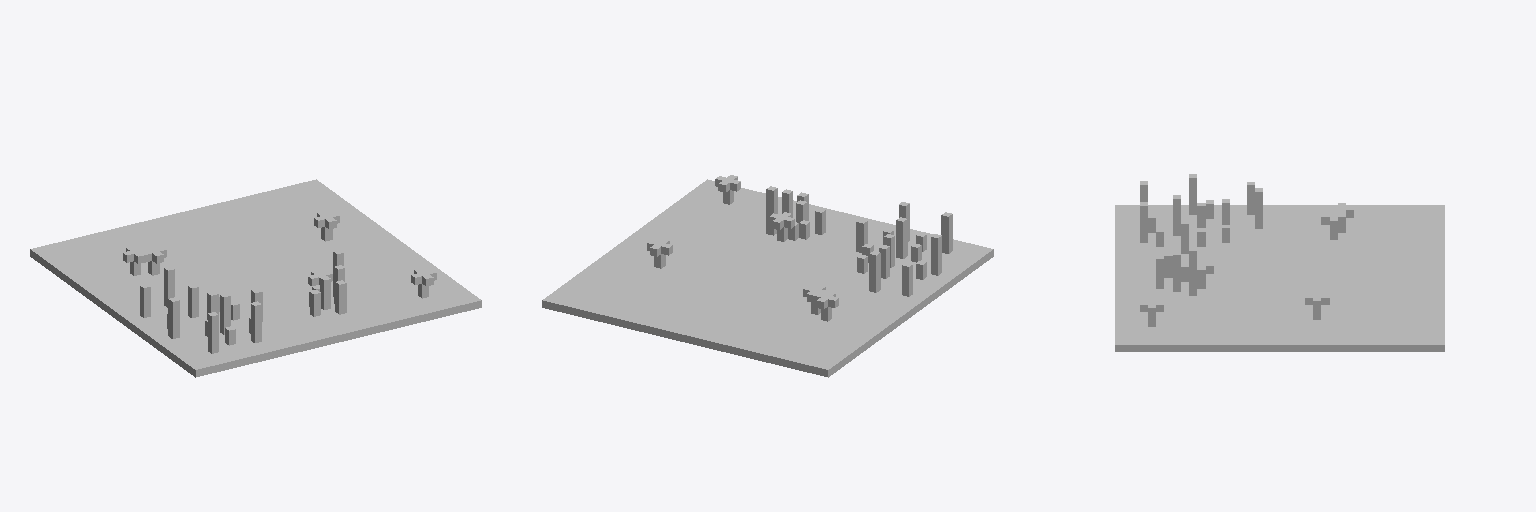
Rendered from grass3.obj.
3 renders of one model, left to right at view 1: azimuth 30°, elevation 25°; view 2: azimuth 150°, elevation 25°; view 3: azimuth 270°, elevation 25°, orthographic.
Visible parts, largest first — view 1: object 1; view 2: object 1; view 3: object 1.
Boxes of the visible parts, x1,y1,x2,y2 form: object 1: [30, 179, 481, 377]; object 1: [542, 175, 993, 377]; object 1: [1115, 174, 1444, 351].
Bounding box in the file's own units: 4 × 0.7 × 4.